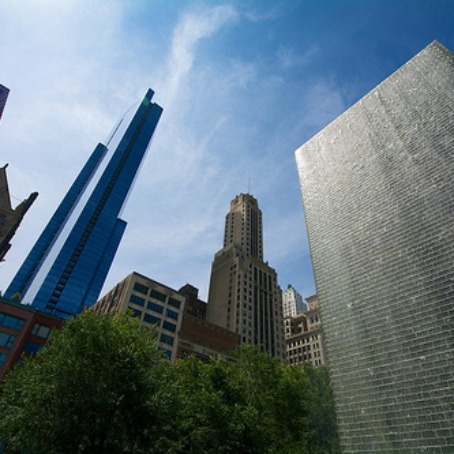building: (280, 46, 454, 447), (13, 89, 169, 305), (105, 284, 250, 376), (220, 183, 284, 364), (280, 278, 332, 370)
sky: (3, 3, 454, 219)
tree: (1, 337, 333, 454)
